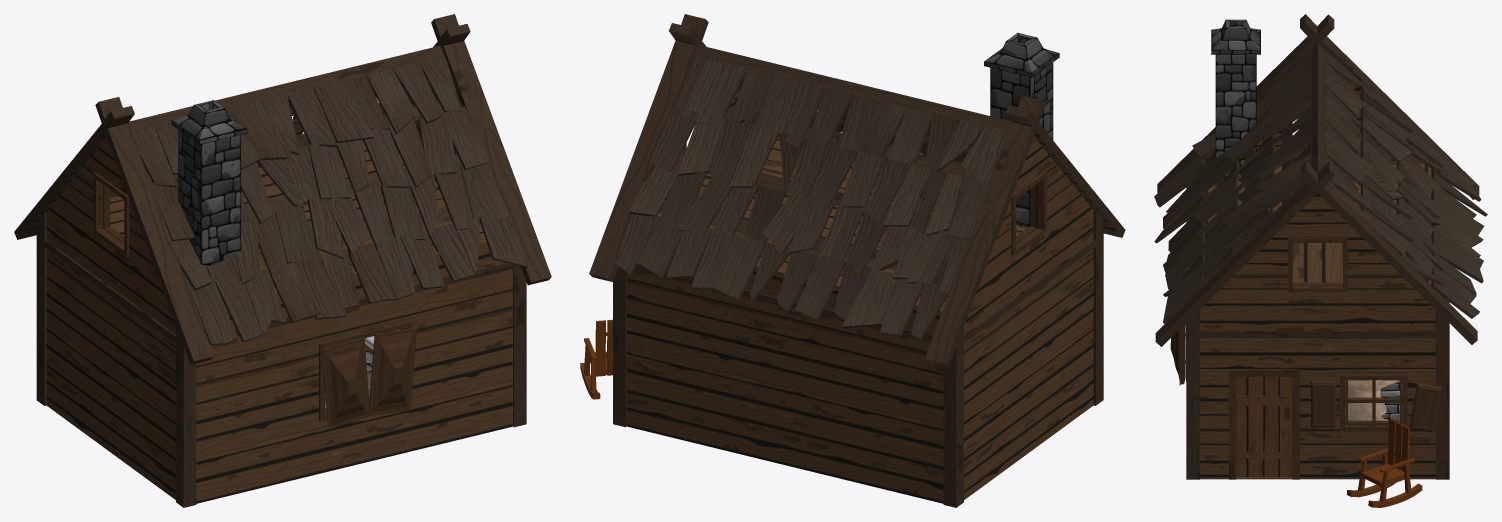
Rendered from House.fbx.
3 renders of one model, left to right at view 1: azimuth 30°, elevation 25°; view 2: azimuth 150°, elevation 25°; view 3: azimuth 270°, elevation 25°, orthographic. The views are drawn at different scales.
Parts seen in each view (by area): view 1: House, Window02; view 2: House, Chair; view 3: House, Door, Window01, Chair, CarpetAnimal, Window02.
Boxes of the visible parts, x1,y1,x2,y2 form: House: (14, 14, 551, 507); Window02: (319, 321, 416, 429); House: (589, 14, 1125, 507); Chair: (580, 319, 612, 399); House: (1154, 14, 1487, 479); Door: (1236, 377, 1292, 477); Window01: (1311, 375, 1442, 432); Chair: (1347, 418, 1422, 507); CarpetAnimal: (1345, 380, 1397, 420); Window02: (1170, 323, 1186, 385).
Bounding box in the file's own units: 1175 × 983 × 894.
